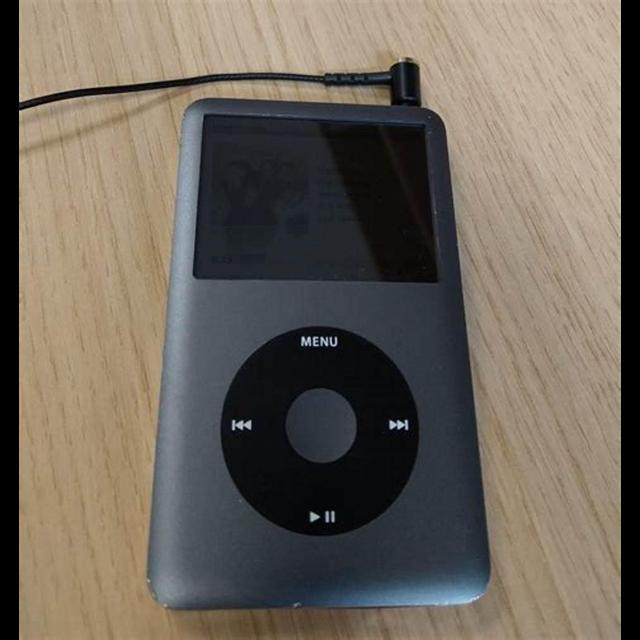Music-Player: (148, 95, 500, 633)
